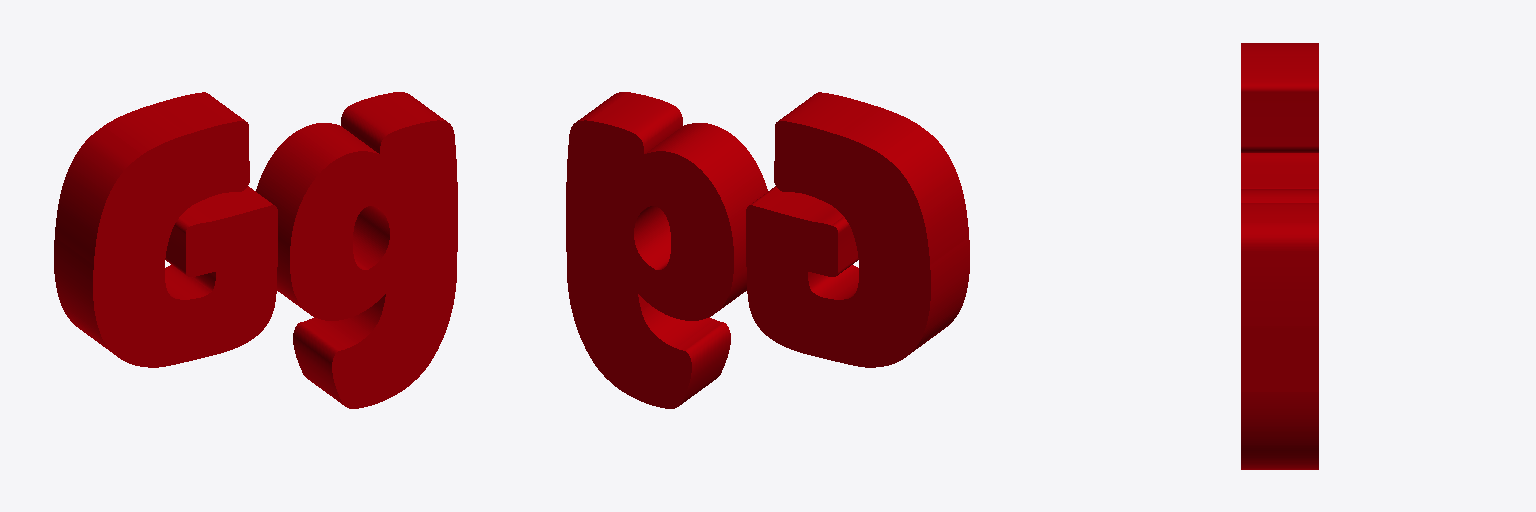
The model's file is Letter_g.obj.
3 views of the same model, side by side, from view 1: azimuth 30°, elevation 25°; view 2: azimuth 150°, elevation 25°; view 3: azimuth 270°, elevation 25° (orthographic).
Parts seen in each view (by area): view 1: Text; view 2: Text; view 3: Text.
Boxes of the visible parts, <box> form: Text: <box>54,92,457,408</box>; Text: <box>566,92,969,408</box>; Text: <box>1241,43,1318,469</box>.
Size of the model in its own units: 1.08 by 0.897 by 0.2.